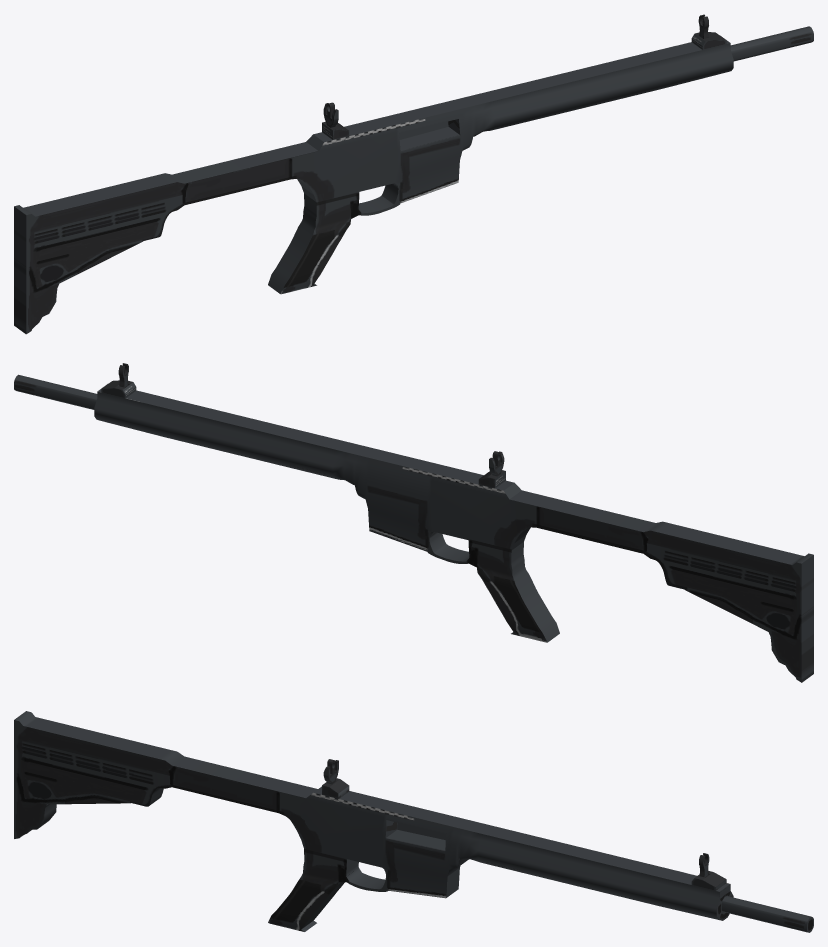
File: RifleBetaExport.fbx
The picture shows the model from 3 angles, top to bottom: view 1: azimuth 30°, elevation 25°; view 2: azimuth 150°, elevation 25°; view 3: azimuth 330°, elevation 25°; orthographic projection.
Visible parts, largest first — view 1: Rifle; view 2: Rifle; view 3: Rifle.
Boxes of the visible parts, bbox=[...] form: Rifle: bbox=[14, 14, 813, 334]; Rifle: bbox=[14, 363, 813, 682]; Rifle: bbox=[14, 711, 813, 932].
Bounding box in the file's own units: 36.53 × 7.62 × 1.35.
